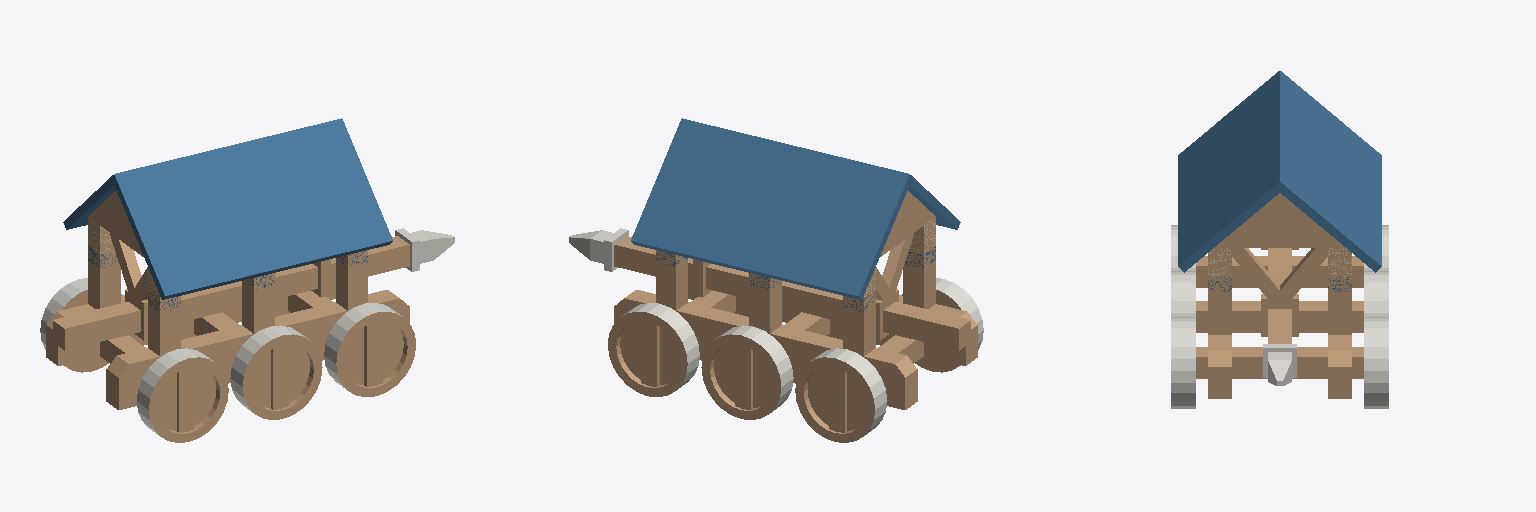
The model's file is siegeRam.obj.
3 renders of one model, left to right at view 1: azimuth 30°, elevation 25°; view 2: azimuth 150°, elevation 25°; view 3: azimuth 270°, elevation 25°, orthographic.
Visible parts, largest first — view 1: body 7, ram 1, wheelBackRight 9, wheelFrontRight 12, wheelMidRight 2, wheelBackLeft 9; view 2: body 7, ram 1, wheelBackLeft 9, wheelFrontLeft 12, wheelMidLeft 2, wheelBackRight 9; view 3: body 7, ram 1, wheelFrontLeft 12, wheelFrontRight 12, wheelMidLeft 2, wheelMidRight 2.
Boxes of the visible parts, x1,y1,x2,y2 form: body 7: [46, 118, 409, 409]; ram 1: [53, 228, 454, 350]; wheelBackRight 9: [137, 348, 228, 442]; wheelFrontRight 12: [324, 303, 415, 396]; wheelMidRight 2: [230, 325, 322, 419]; wheelBackLeft 9: [40, 278, 121, 372]; body 7: [614, 118, 977, 409]; ram 1: [569, 228, 970, 350]; wheelBackLeft 9: [795, 348, 886, 442]; wheelFrontLeft 12: [608, 303, 699, 396]; wheelMidLeft 2: [701, 325, 793, 419]; wheelBackRight 9: [902, 278, 983, 372]; body 7: [1178, 71, 1381, 398]; ram 1: [1263, 248, 1296, 385]; wheelFrontLeft 12: [1364, 317, 1388, 408]; wheelFrontRight 12: [1171, 317, 1195, 408]; wheelMidLeft 2: [1364, 271, 1388, 316]; wheelMidRight 2: [1171, 271, 1195, 316].
Bounding box in the file's own units: 19.87 × 11.22 × 9.47.